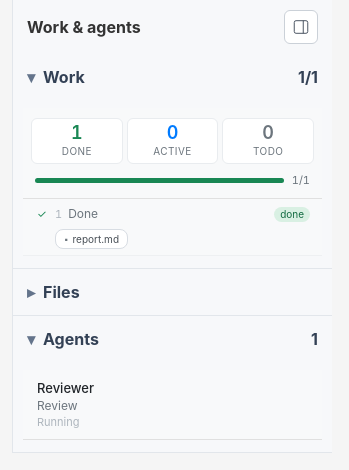
Test: ConversationInspector › keeps Work and Agents independently open with live counts
The width and height of the screenshot is (349, 470).
Expected: the button with id "inspector-tab-agents" shows "1", [13,316,332,362]
Expected: the element with test id "todo-panel" is shown, [23,108,322,256]
Click the button with id "inspector-tab-work": (64, 77) [13,54,332,100]
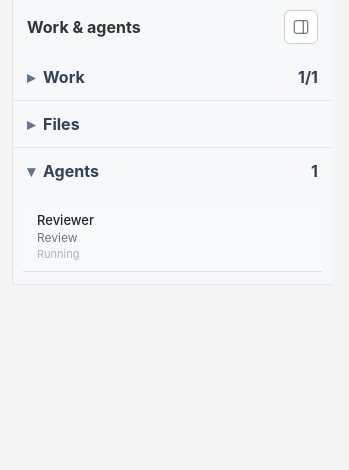
Expected: the button with id "inspector-tab-work" is collapsed, [13,54,332,100]
